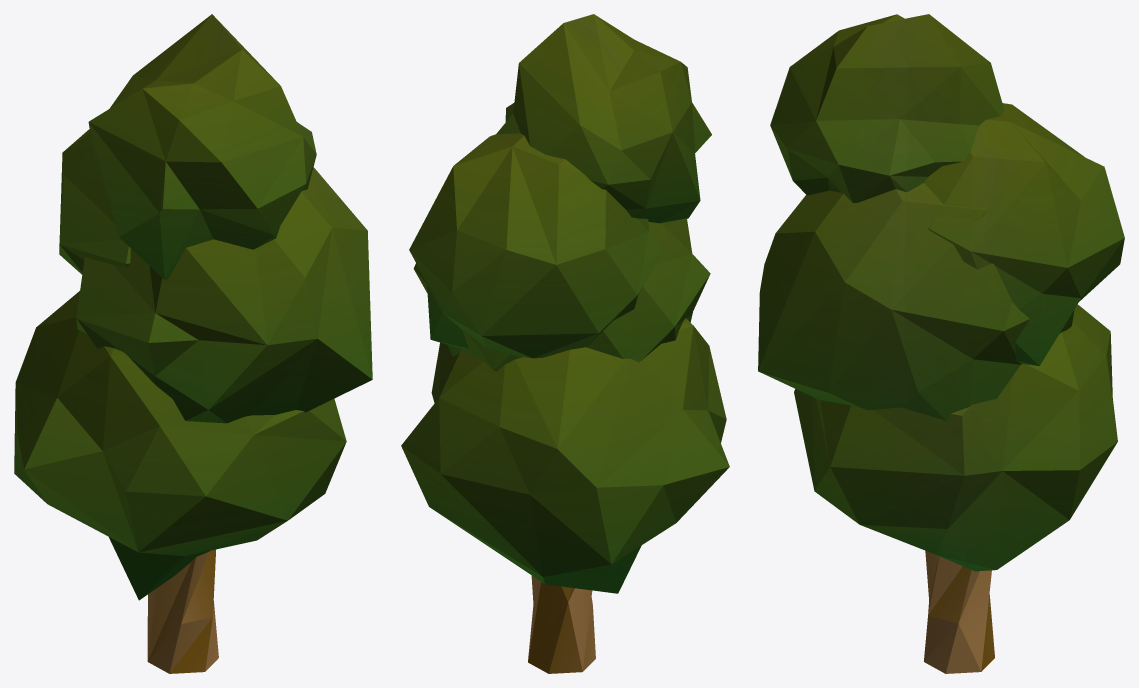
The model's file is 4seasons_tree_happy.FBX.
3 views of the same model, side by side, from view 1: azimuth 30°, elevation 25°; view 2: azimuth 150°, elevation 25°; view 3: azimuth 270°, elevation 25° (orthographic). The views are drawn at different scales.
Parts seen in each view (by area): view 1: leaves; view 2: leaves; view 3: leaves.
Boxes of the visible parts, box(x1,y1,x2,y2) form: leaves: box(14, 14, 372, 673); leaves: box(401, 14, 729, 673); leaves: box(758, 14, 1124, 673).
Bounding box in the file's own units: 81.3 × 163 × 83.12.
Materials: 2 (2 with a texture image).
